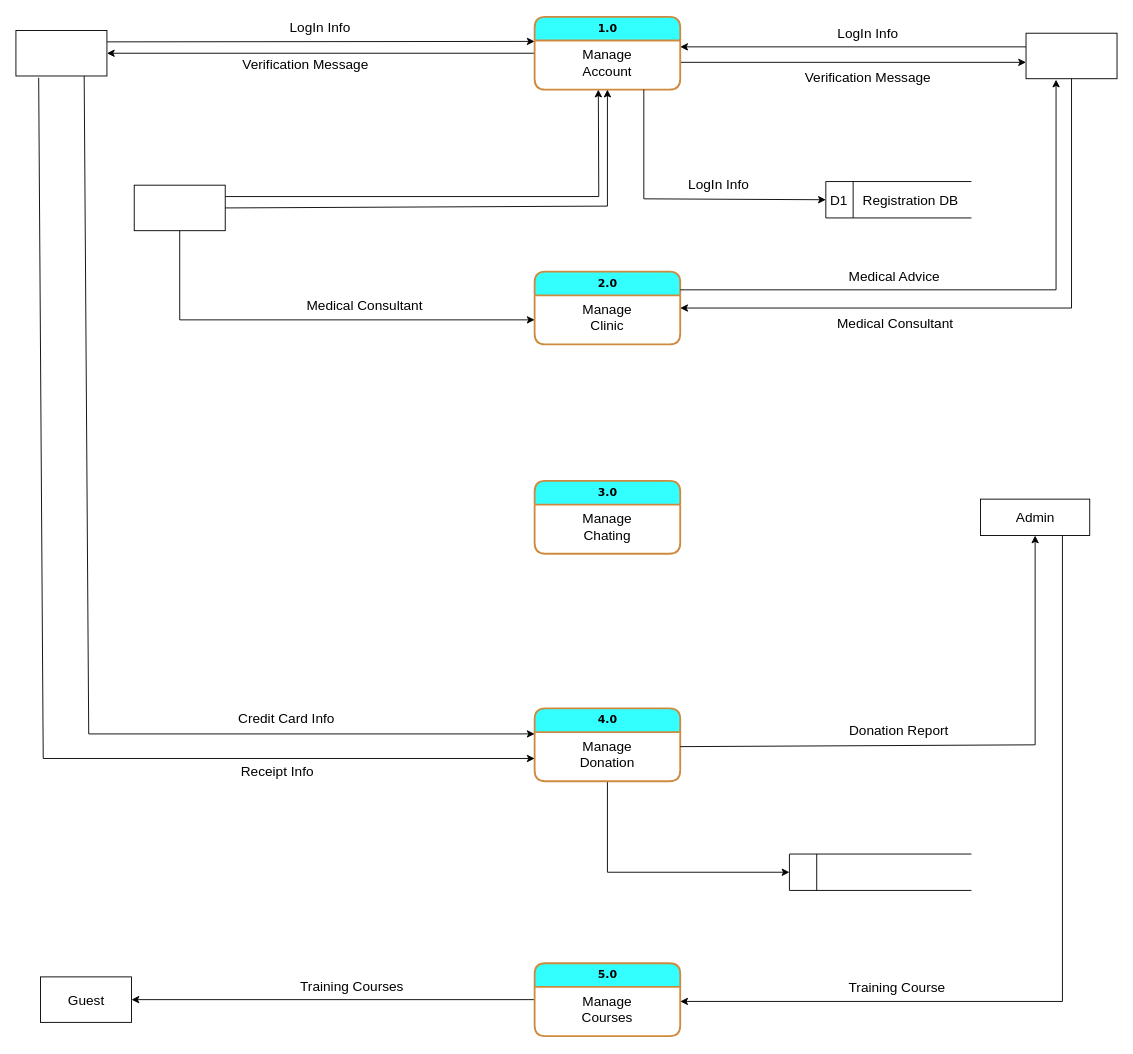
Some shapes in this 1133 by 1054 pixel diagram are drawn without their labels. Each missing label, with the centre of its shape:
D2 Donation DB: [880,871]
Doctor: [1071,55]
Donor: [61,53]
Patient: [179,207]
